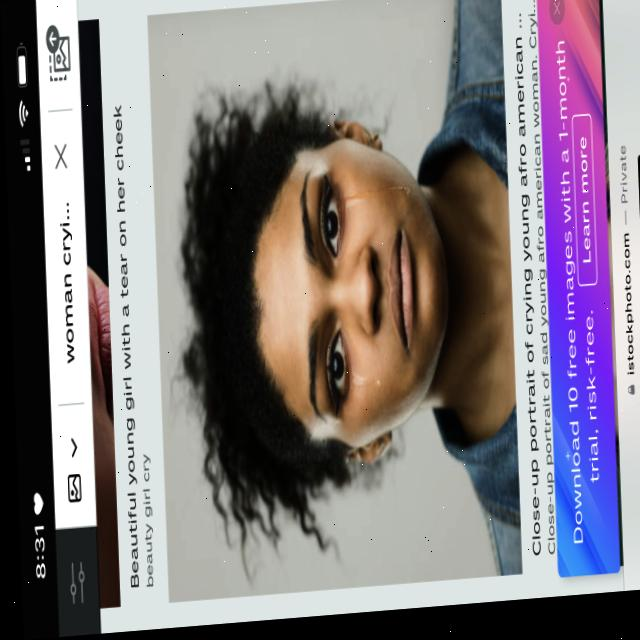natural: (206, 147, 446, 543)
